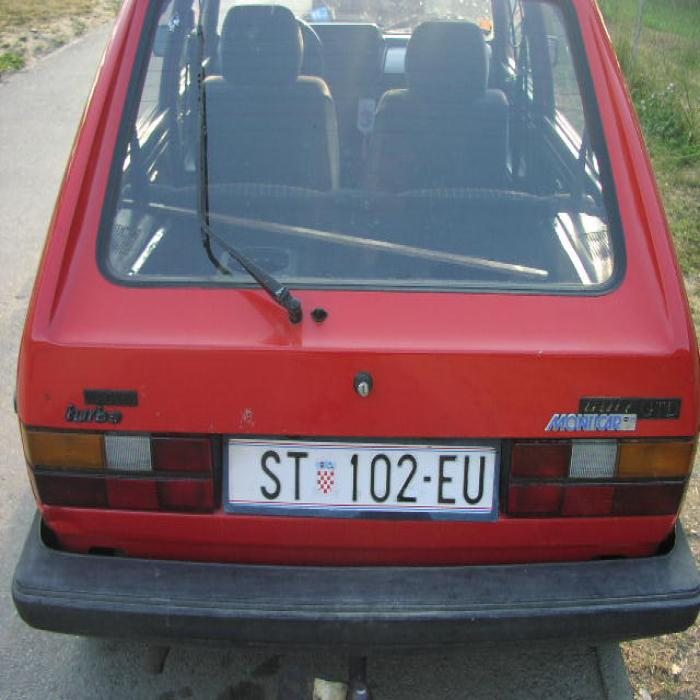number_plate: (225, 439, 490, 509)
